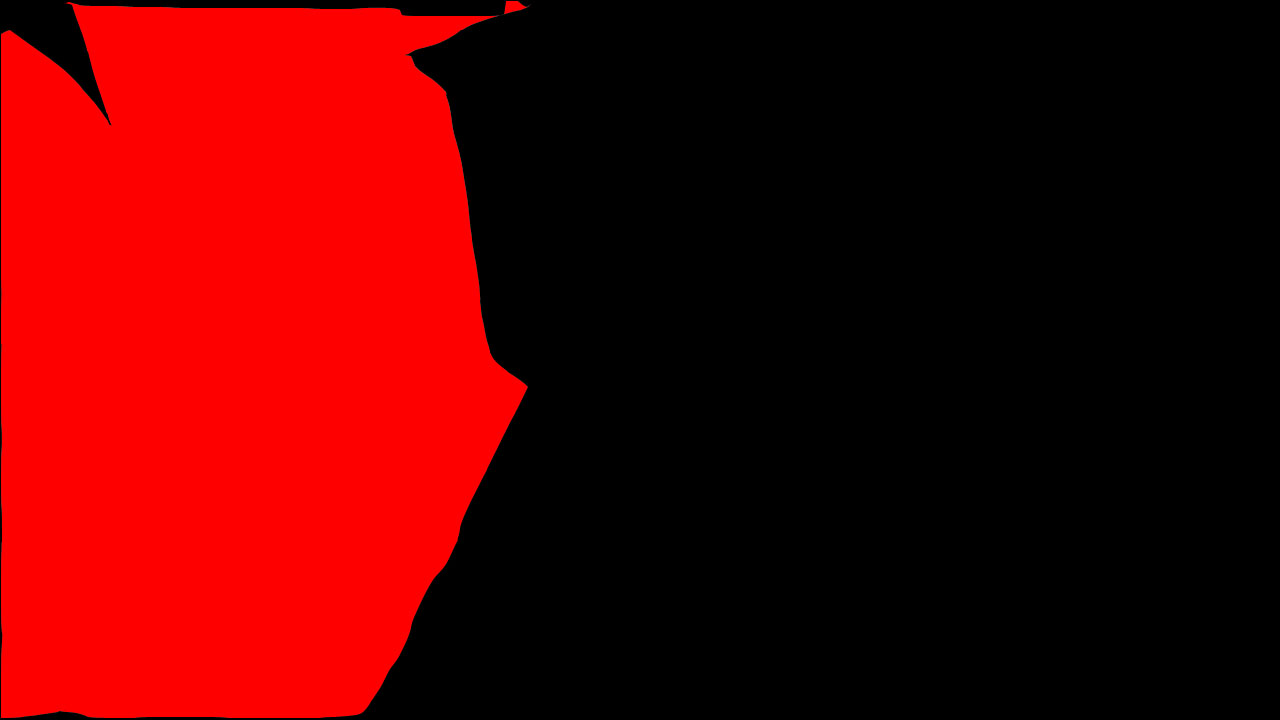uniforme_ifmt: (8, 3, 512, 720)
